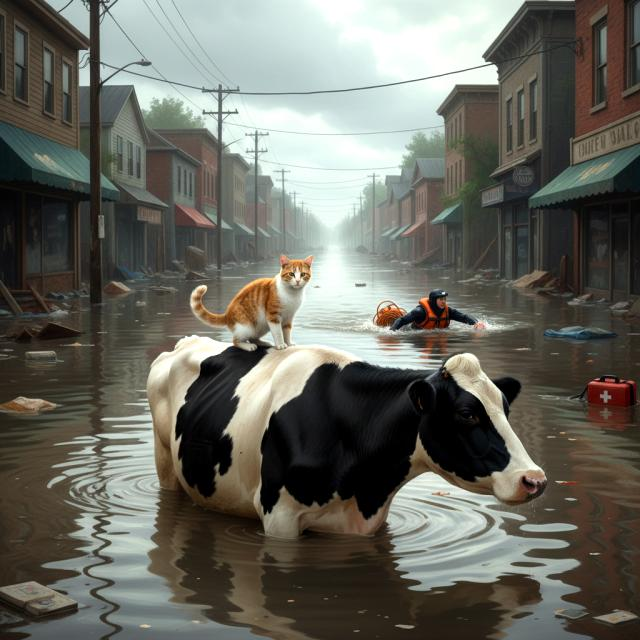cat: (180, 250, 326, 351)
cow: (135, 332, 563, 563)
rescuer: (376, 286, 491, 338)
